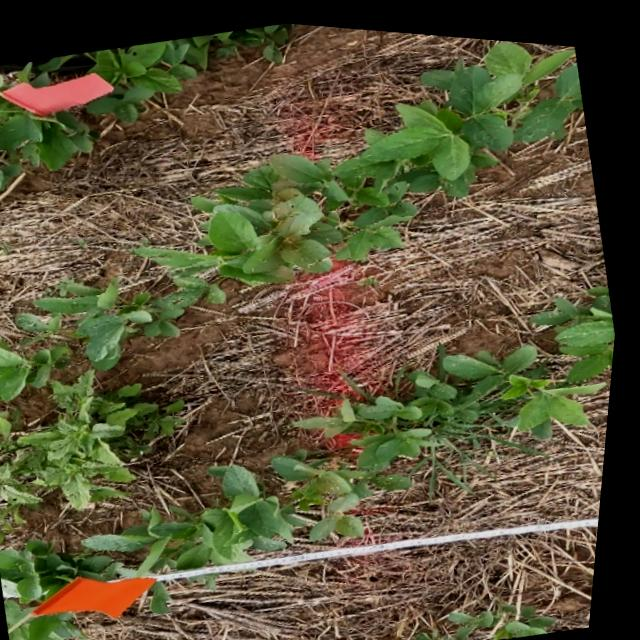caruru_weed: (0, 368, 189, 506)
soy_plant: (0, 34, 584, 400), (38, 278, 620, 592), (0, 18, 291, 191), (14, 566, 87, 640), (430, 600, 563, 640)
